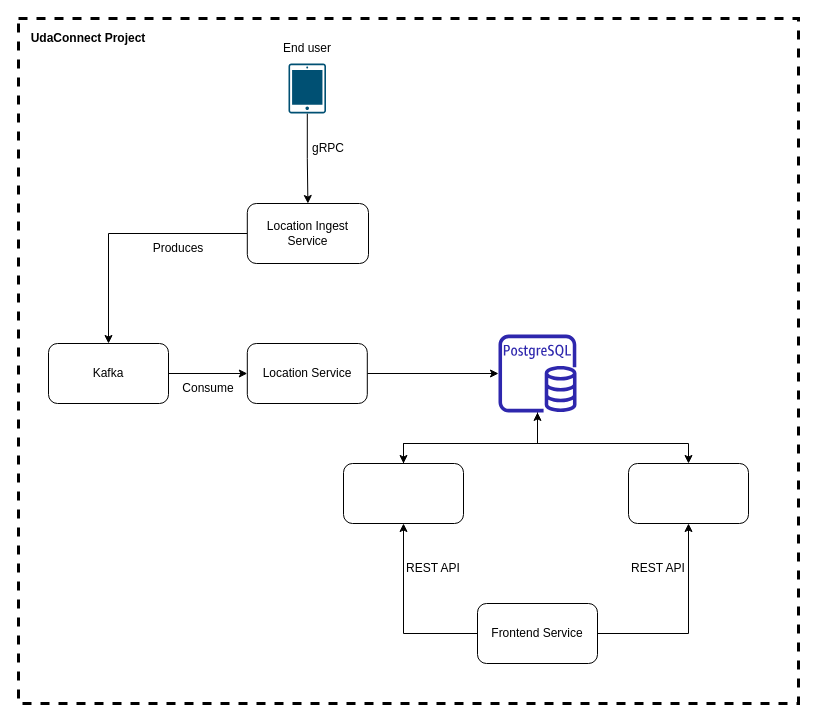
Image size: 817x722. Some labels were removed from this diagram. The centre of each missing label's shape, as x and y in pixels:
"Connection Service" goes at (403,493).
"Person Service" goes at (688,493).
